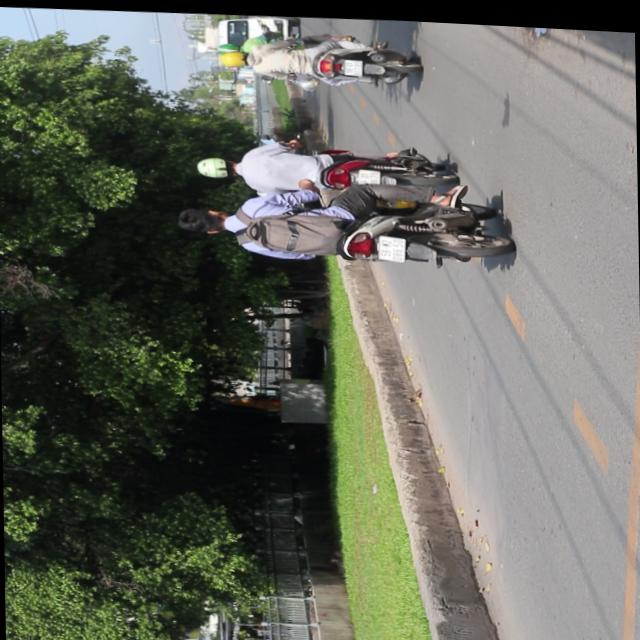helmet: (195, 152, 236, 178), (216, 47, 246, 65)
licenseplate: (174, 170, 510, 274), (193, 130, 454, 201), (215, 24, 418, 90)
motorcyclist: (176, 204, 230, 236)
nohelmet: (377, 231, 405, 257), (358, 164, 380, 181), (344, 55, 362, 71)
